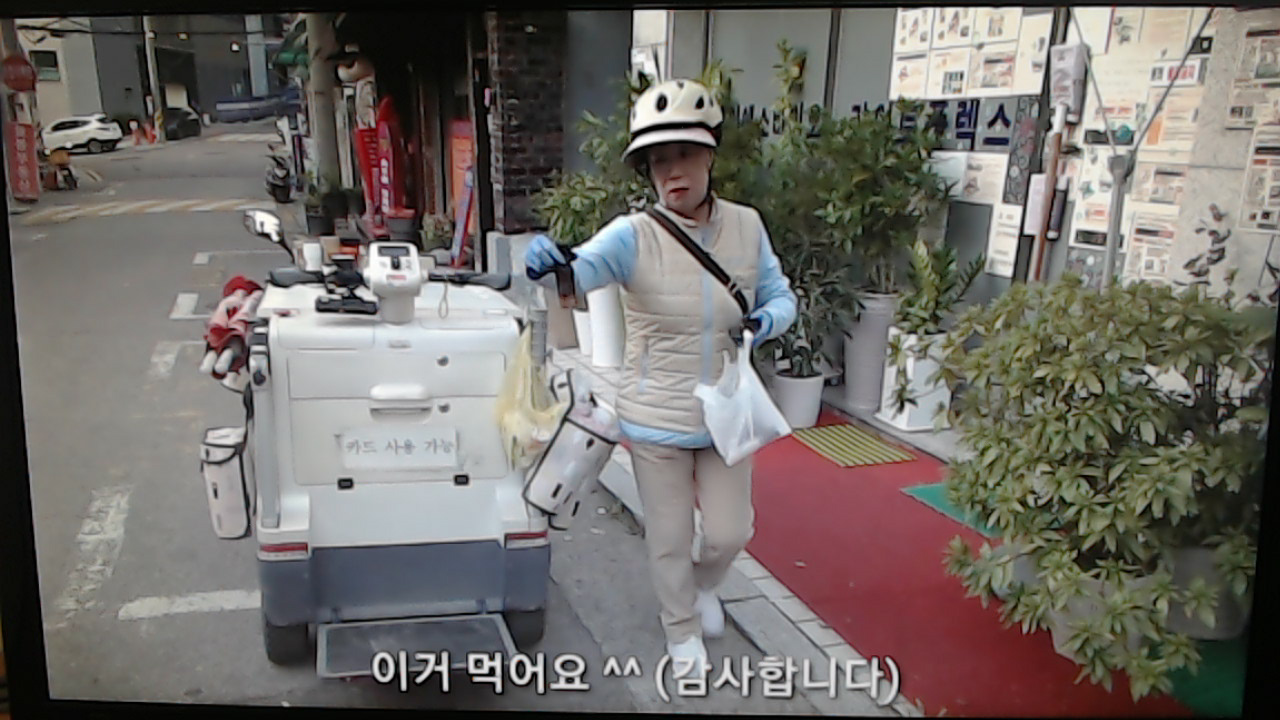Yakurut: (520, 70, 812, 658)
